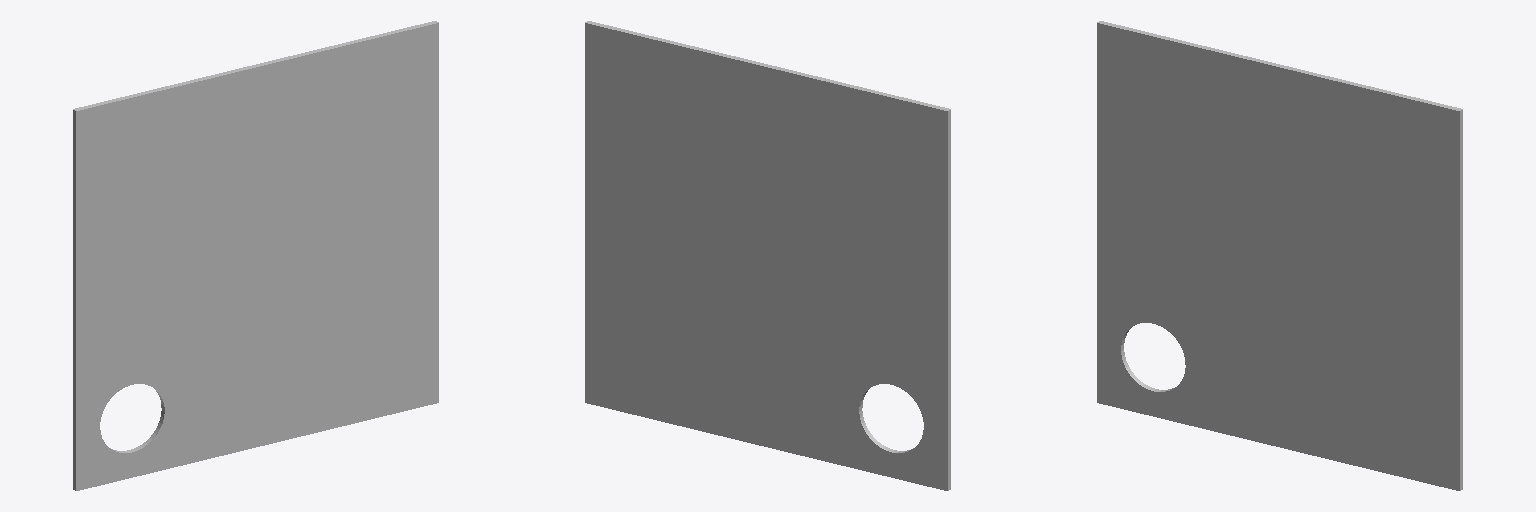
The robot description file, URDF, robot "case_sig_ring":
<?xml version="0.0" ?>
<robot name="case_sig_ring">

  <link name="world"/>

  <link name="case_sig_ring_link">
    <inertial>
      <mass value="0.8"/>
      <inertia ixx="0.1" ixy="0.0" ixz="0.0" iyy="0.1" iyz="0.0" izz="0.1"/>
    </inertial>

    <visual>
      <origin rpy="0 0 0" xyz="0 0 0"/>
      <geometry>
        <mesh filename="plate_3.STL" scale="0.0015 0.002 0.0015 "/>
      </geometry>
      <material name="sig">
        <color rgba="0.8 0.8 0.8 1"/>
      </material>
    </visual>

    <collision concave="yes">
      <origin rpy="0 0 0" xyz="0 0 0"/>
      <geometry>

        <mesh filename="plate_3.STL" scale="0.0015 0.002 0.0015 "/>
<!--        <mesh filename="plate_2.STL" scale="0.0015 0.002 0.0015 "/>-->
      </geometry>
    </collision>
  </link>


  <joint name="connect_root_and_world" type="fixed">
    <child link="case_sig_ring_link"/>
    <parent link="world"/>
    <origin rpy="0 0 0" xyz="0 0 0"/>
  </joint>

</robot>

--- Facts derived from the render (not from the file) ---
Views: 3 orthographic renders of the robot side by side, from view 1: azimuth 30°, elevation 25°; view 2: azimuth 150°, elevation 25°; view 3: azimuth 330°, elevation 25°.
Model case_sig_ring with 2 links and 1 joints (1 fixed), rooted at world, posed every joint at zero.
Visible links, largest first — view 1: case_sig_ring_link; view 2: case_sig_ring_link; view 3: case_sig_ring_link.
Link boxes in pixels (x1,y1,x2,y2): case_sig_ring_link: [73, 21, 438, 490]; case_sig_ring_link: [585, 21, 950, 490]; case_sig_ring_link: [1097, 21, 1462, 490].
Size in the robot's own frame: 0.3429 by 0.0051 by 0.3429 metres.
Meshes: 1 distinct files referenced, 1 mesh visuals loaded (1 binary STL).